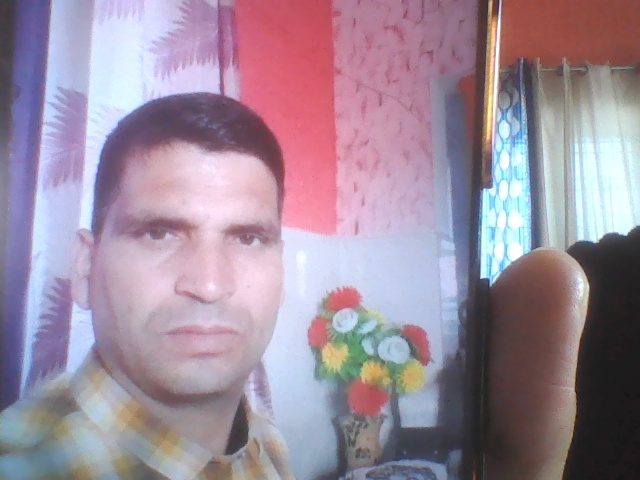fake: (65, 66, 309, 412)
